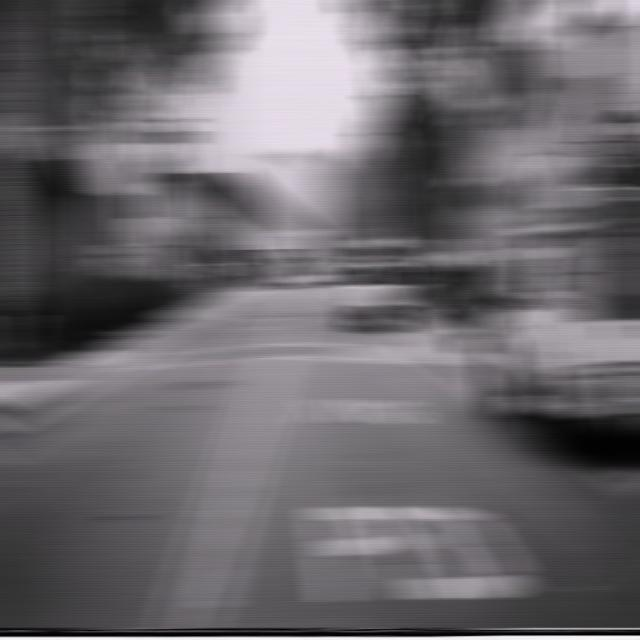pedestrianCrossing: (565, 87, 626, 179)
